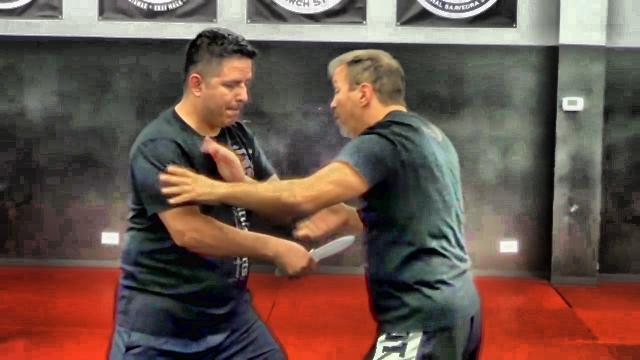knife: (271, 230, 357, 280)
